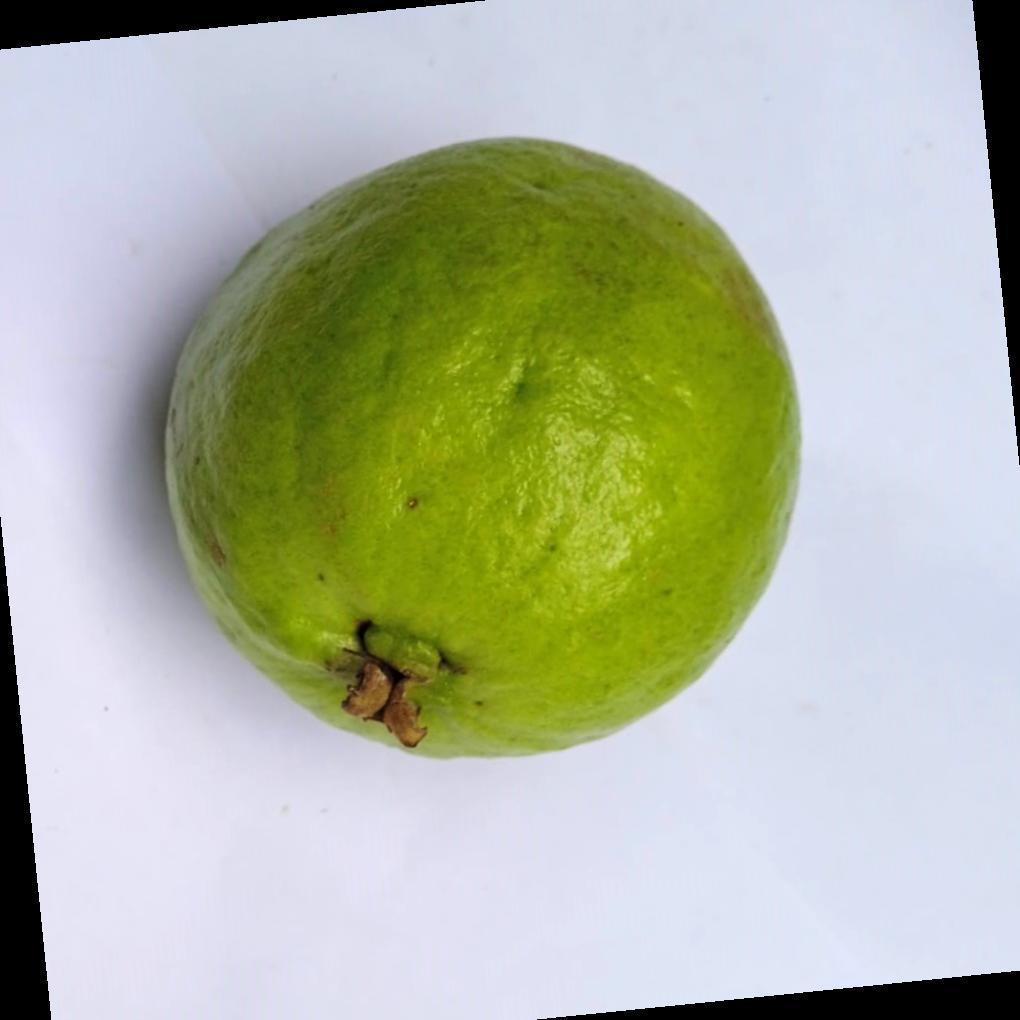FreshGuava: (161, 137, 803, 764)
